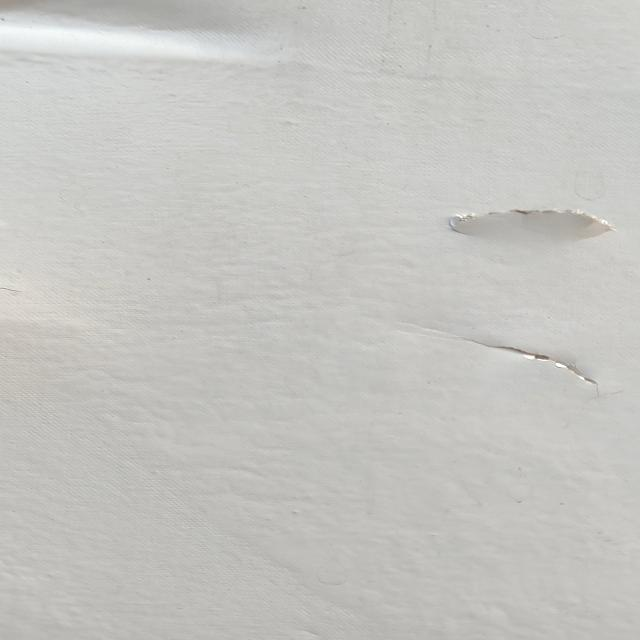Dents or Deformation: (1, 1, 321, 77)
Scratches: (424, 316, 629, 411), (418, 173, 631, 251)
